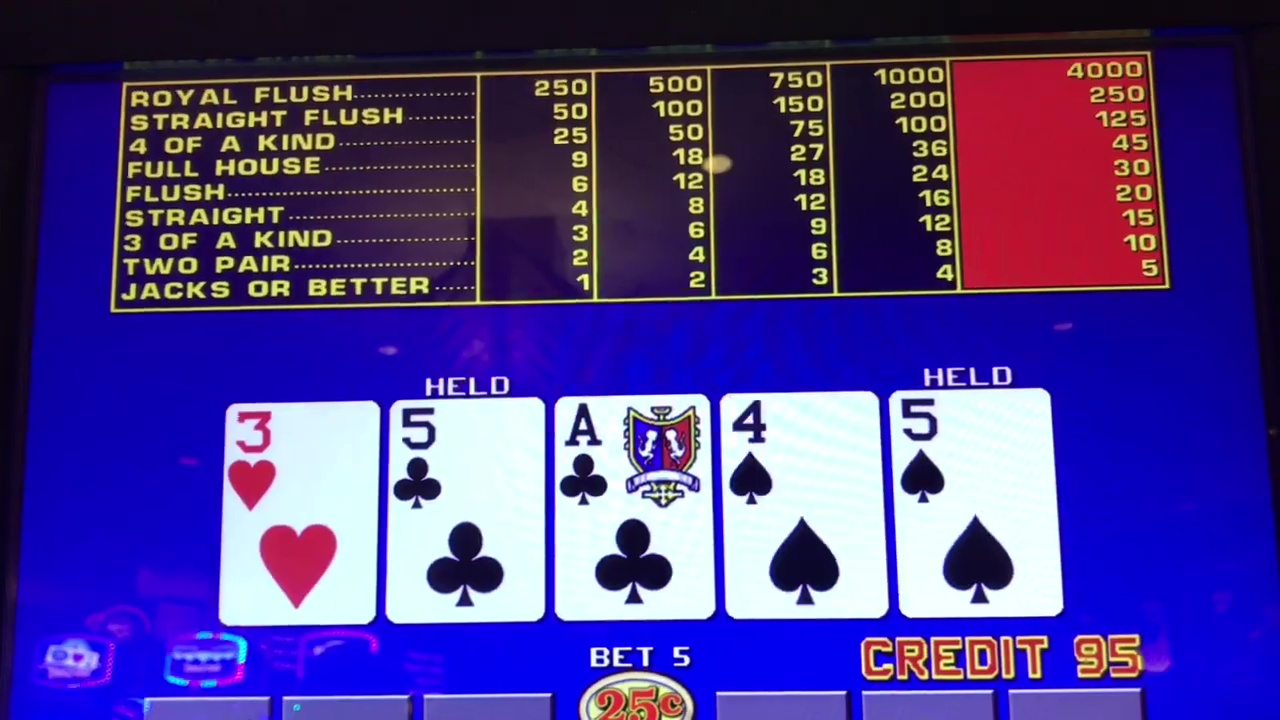C5: (391, 399, 544, 621)
CA: (563, 397, 704, 611)
H3: (230, 404, 372, 622)
S4: (727, 396, 878, 615)
S5: (901, 392, 1046, 614)
